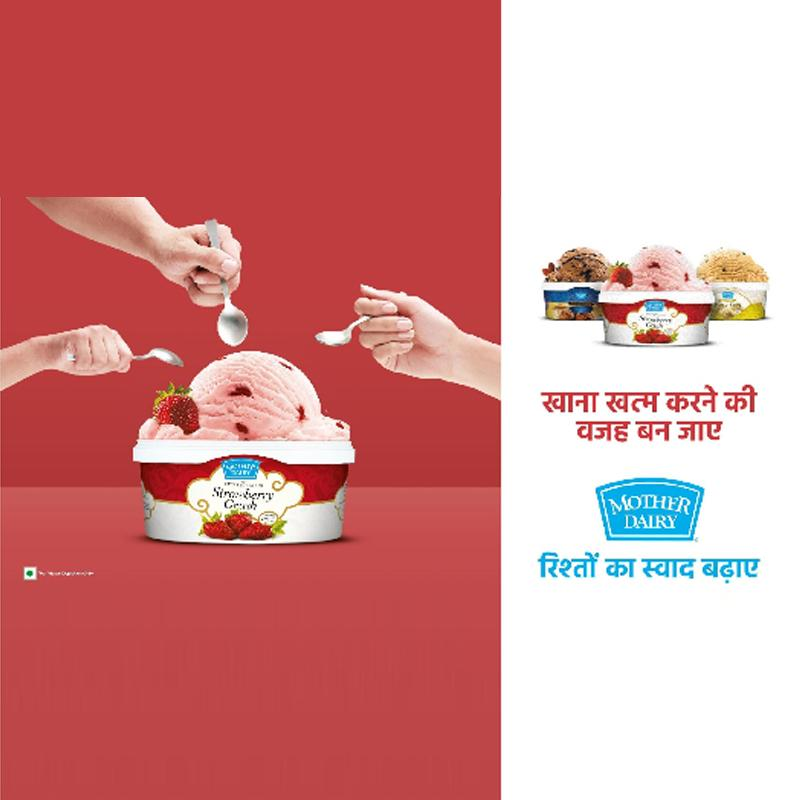Mother_Dairy: (583, 469, 706, 552)
